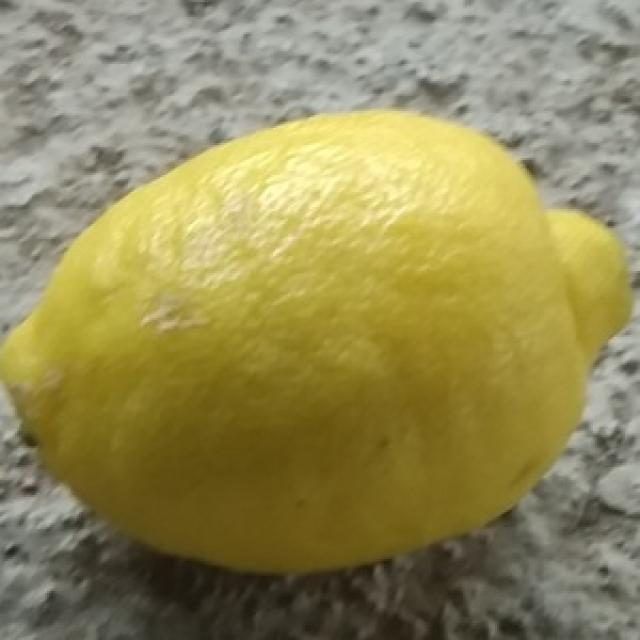Ripe: (0, 99, 640, 582)
